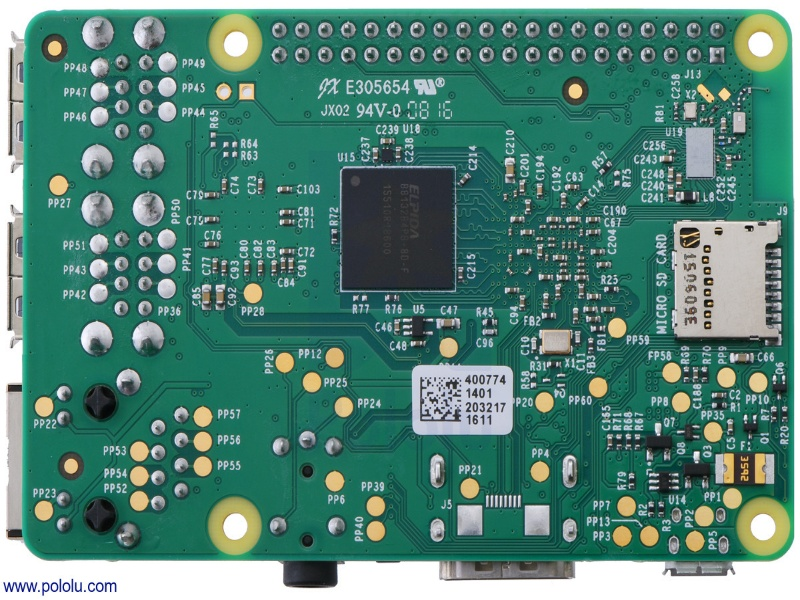raspberrypi: (14, 11, 793, 545)
